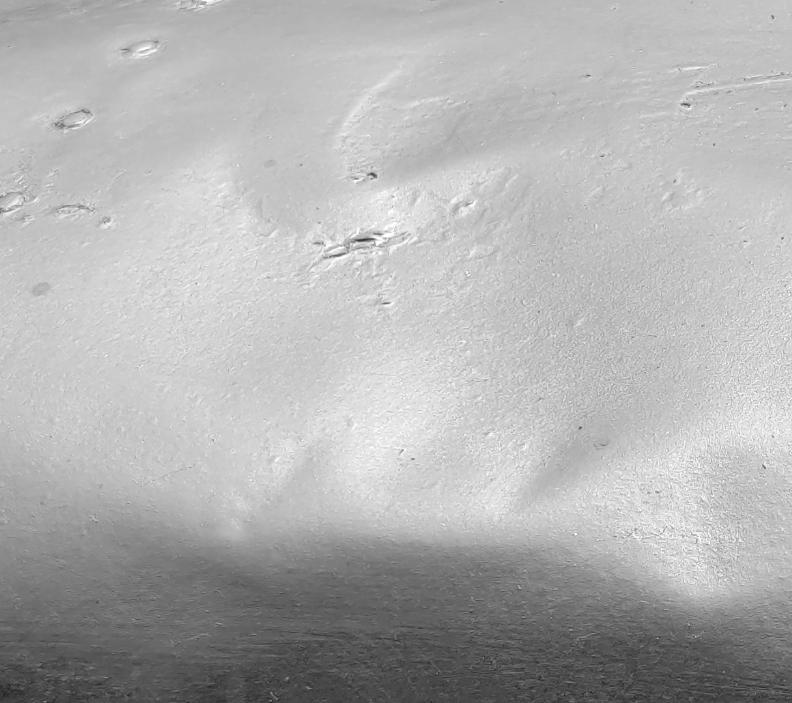dent: (1, 0, 792, 703)
